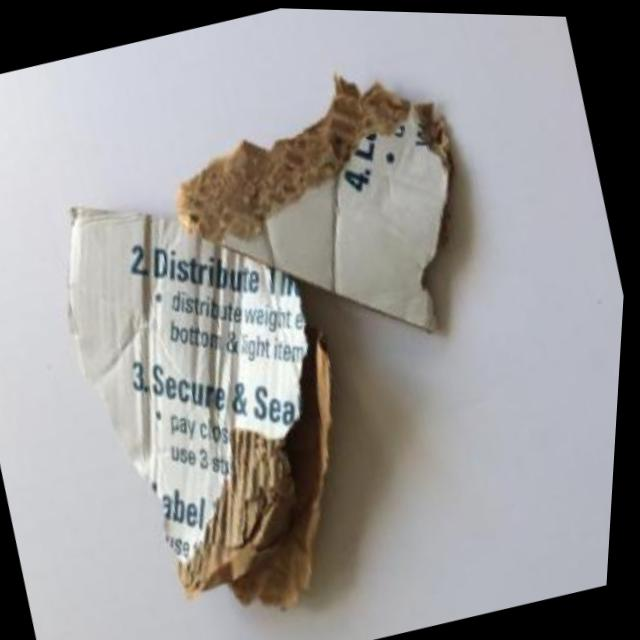box: (18, 134, 415, 640), (137, 12, 557, 403)
